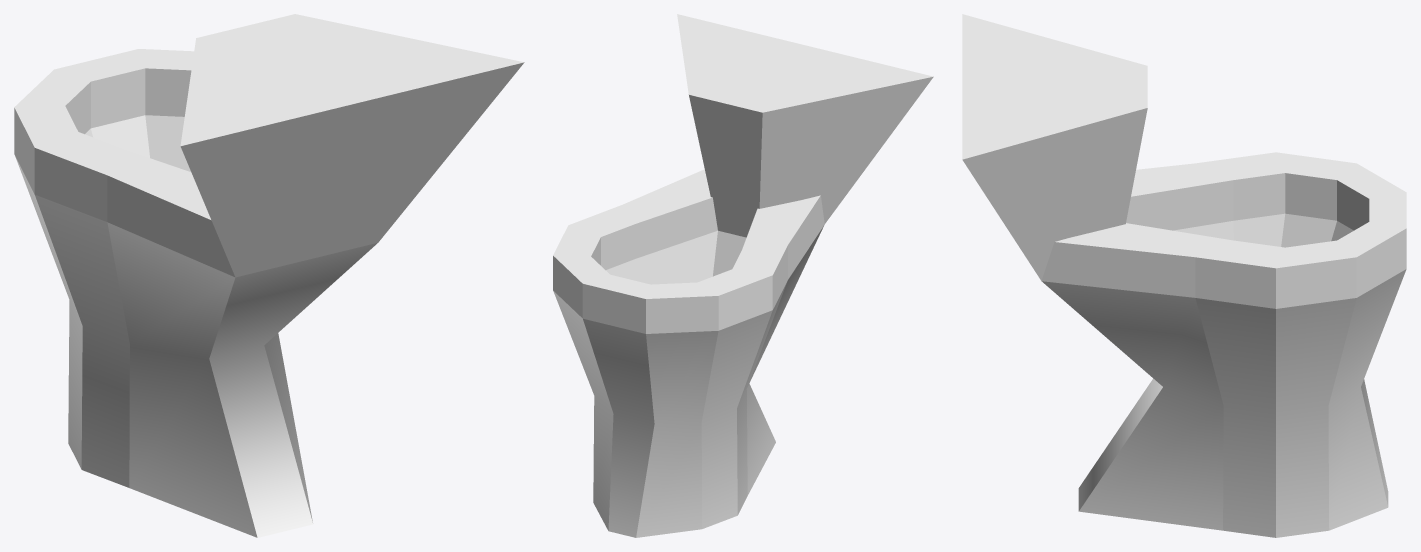
File: Toilet.fbx
3 renders of one model, left to right at view 1: azimuth 30°, elevation 25°; view 2: azimuth 150°, elevation 25°; view 3: azimuth 270°, elevation 25°, orthographic. The views are drawn at different scales.
Visible parts, largest first — view 1: Toilet, ToiletSeat; view 2: Toilet, ToiletSeat; view 3: Toilet, ToiletSeat.
Boxes of the visible parts, box(x1,y1,x2,y2) form: Toilet: box(14, 14, 524, 537); ToiletSeat: box(14, 49, 220, 241); Toilet: box(553, 14, 933, 537); ToiletSeat: box(553, 169, 822, 311); Toilet: box(962, 14, 1406, 537); ToiletSeat: box(1049, 152, 1406, 284).
Bounding box in the file's own units: 3.4 × 4.5 × 4.39.
